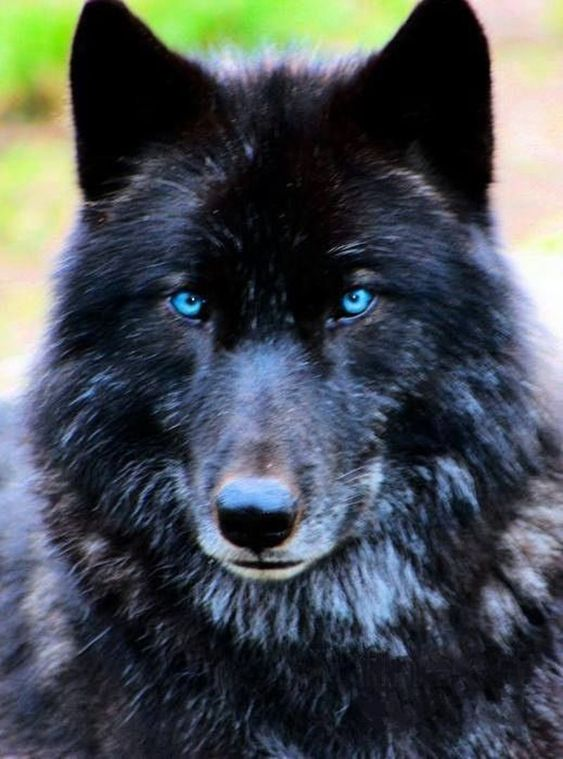Lobo: (41, 13, 523, 655)
